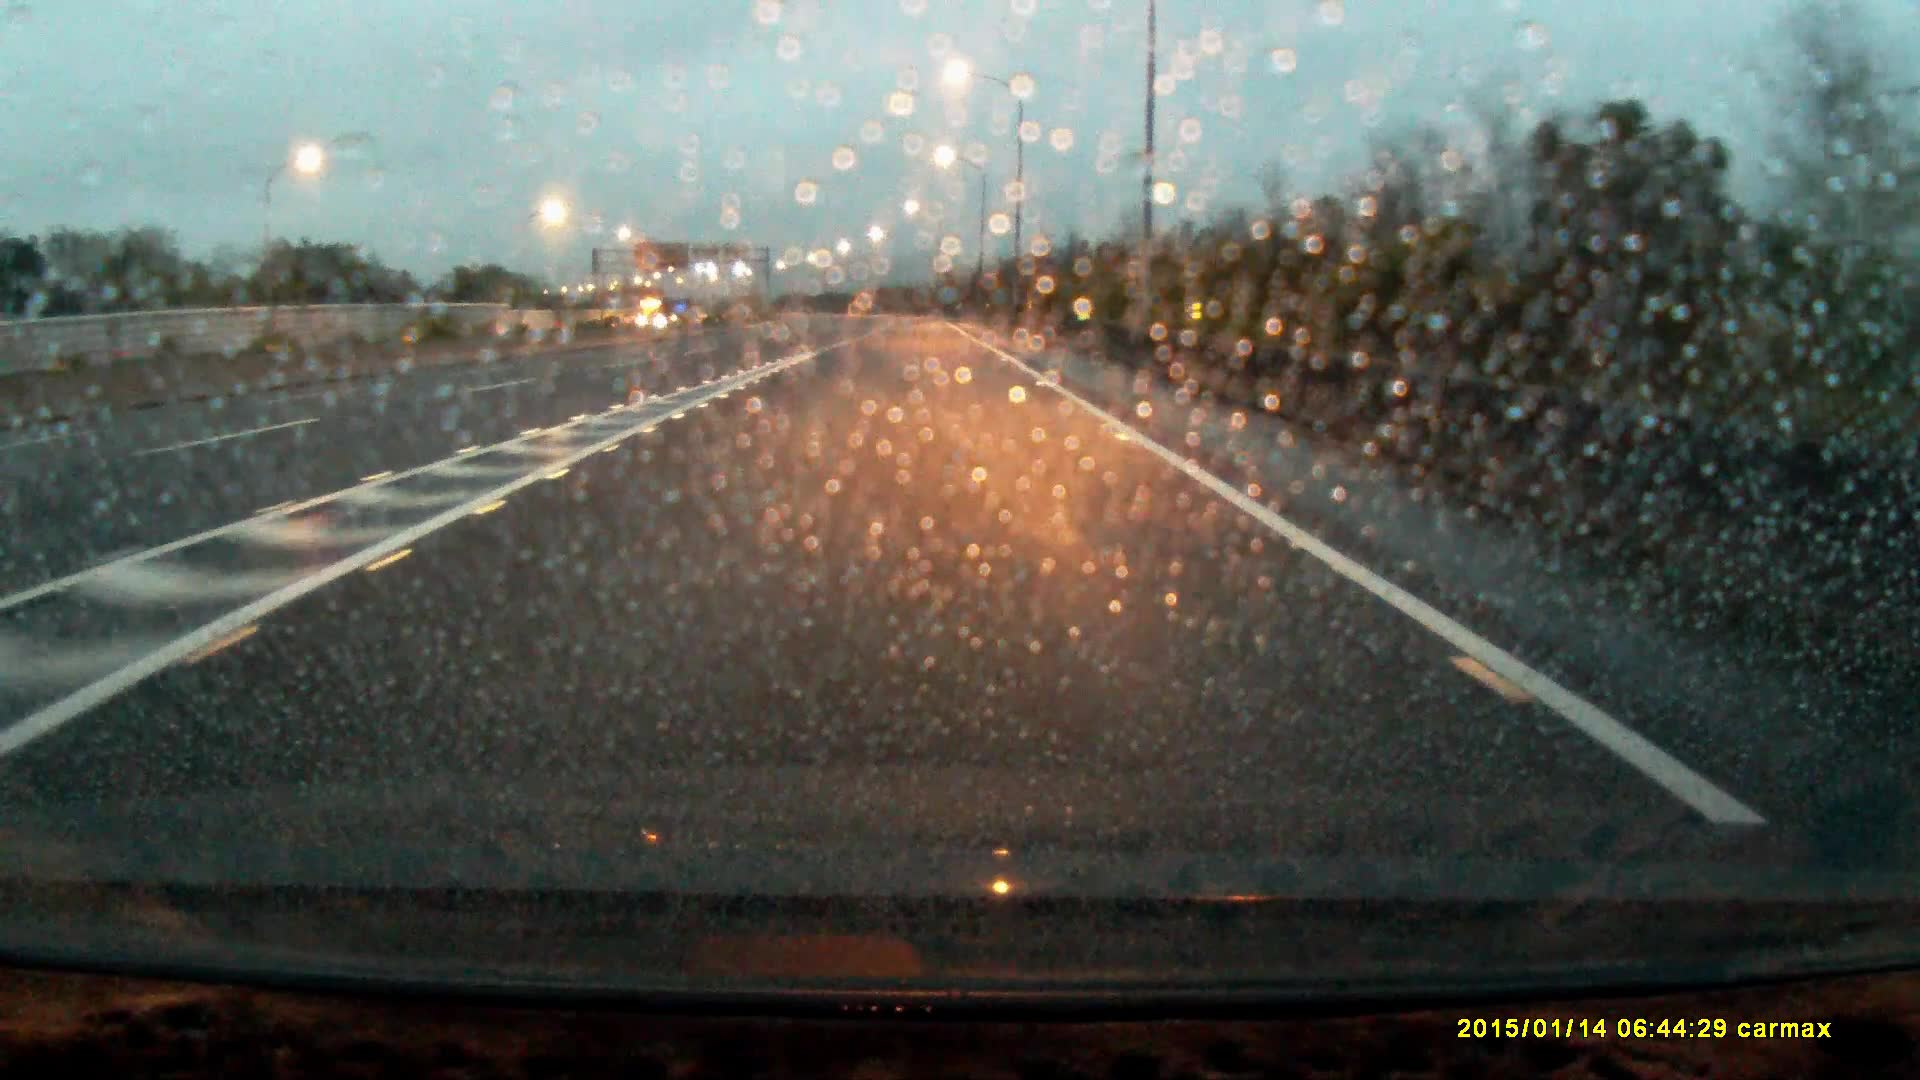vehicle: (640, 295, 671, 327)
